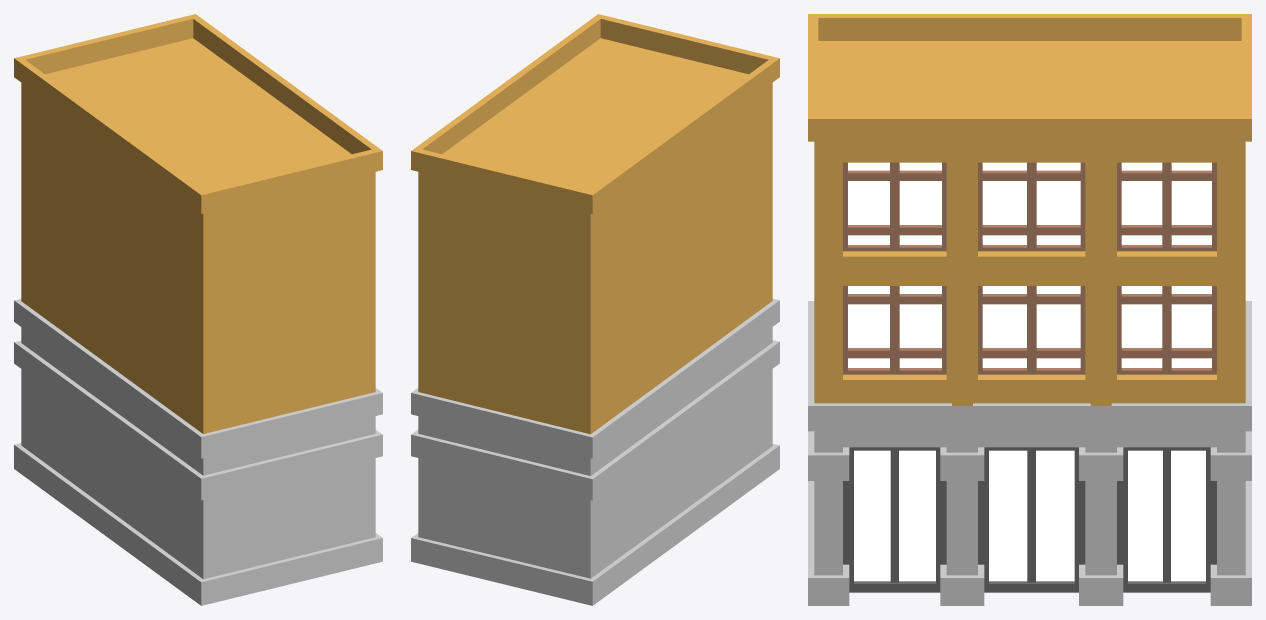
Rendered from House 1.3.fbx.
The picture shows the model from 3 angles, left to right: view 1: azimuth 30°, elevation 25°; view 2: azimuth 150°, elevation 25°; view 3: azimuth 270°, elevation 25°; orthographic projection. The views are drawn at different scales.
Visible parts, largest first — view 1: House 1.004; view 2: House 1.004; view 3: House 1.004.
Part boxes in pixels (x1,y1,x2,y2): House 1.004: (14,14,382,605); House 1.004: (411,14,779,605); House 1.004: (808,14,1251,605).
Size of the model in its own units: 785 by 1696 by 1401.
